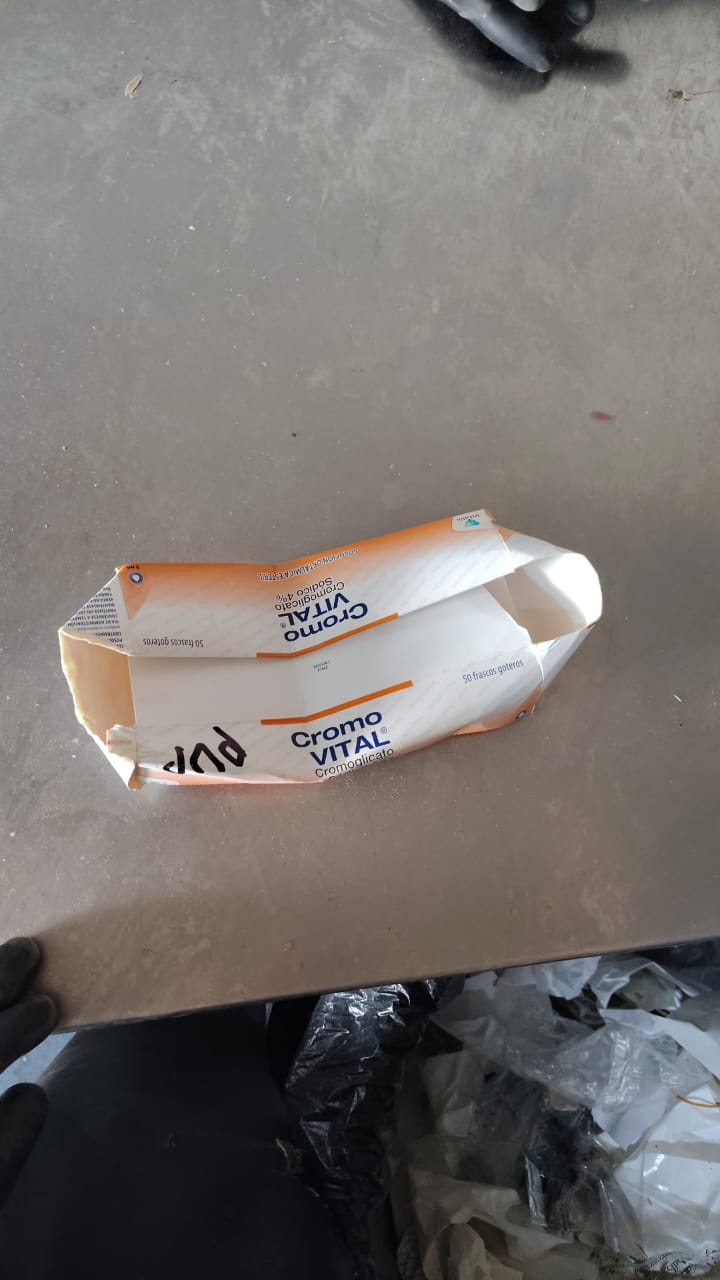Carton: (61, 509, 607, 785)
